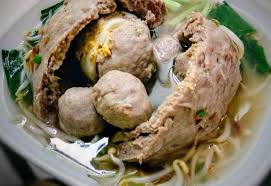bakso: (30, 6, 212, 149)
